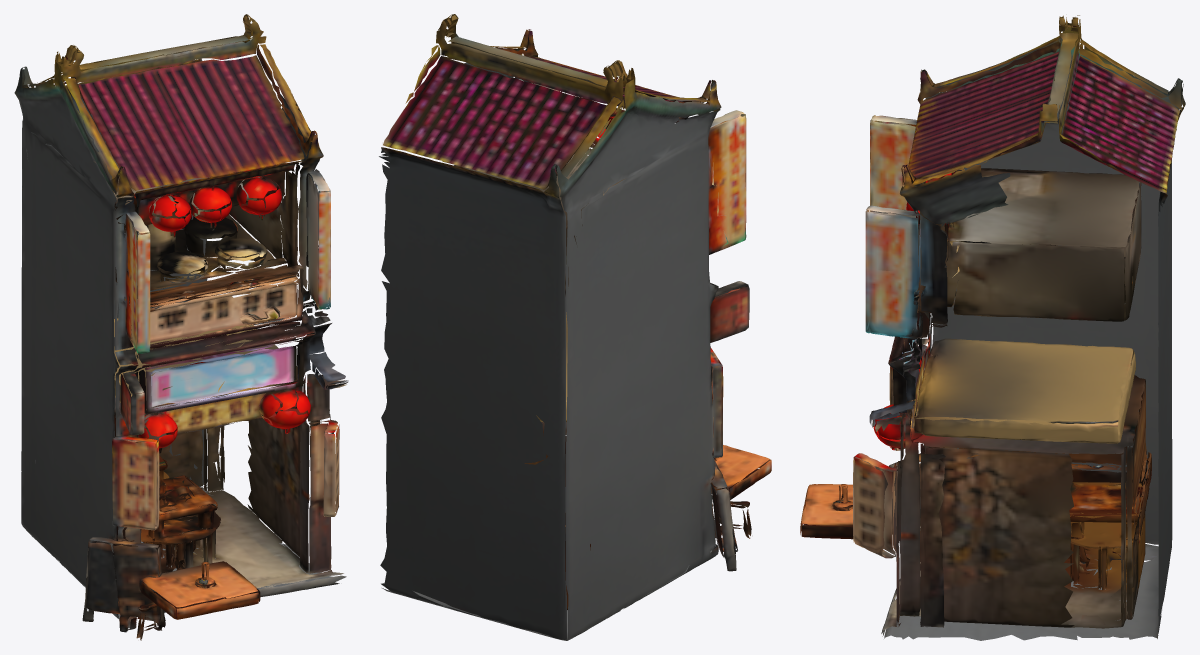
Rendered from Chinatown_House_1.obj.
3 renders of one model, left to right at view 1: azimuth 30°, elevation 25°; view 2: azimuth 150°, elevation 25°; view 3: azimuth 270°, elevation 25°, orthographic. The views are drawn at different scales.
Visible parts, largest first — view 1: model; view 2: model; view 3: model.
Boxes of the visible parts, x1=… form: model: x1=14, y1=14, x2=348, y2=640; model: x1=379, y1=14, x2=771, y2=640; model: x1=800, y1=15, x2=1185, y2=640.
Bounding box in the file's own units: 0.2048 × 0.4248 × 0.2778.
1 material, 1 textured.
